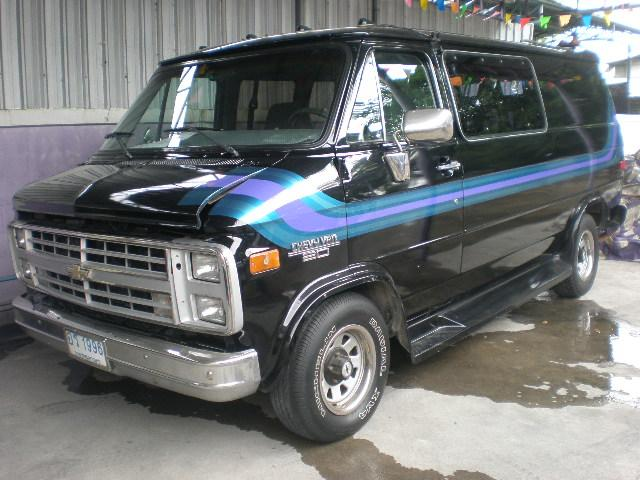van: (7, 24, 629, 443)
